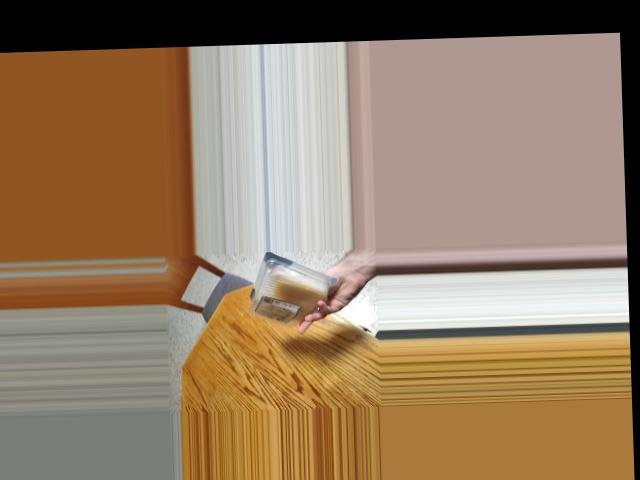cheese: (248, 255, 329, 325)
